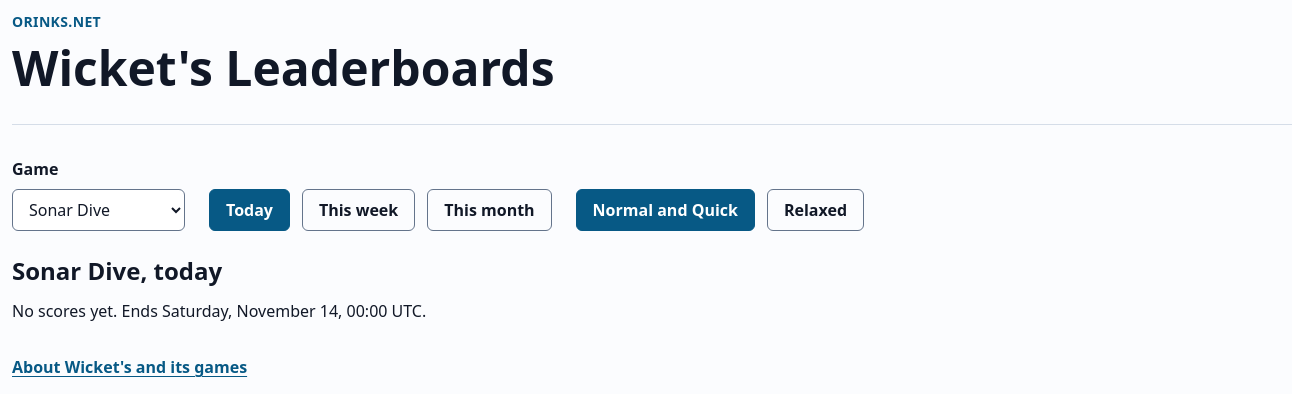
Test: on the live site › a board the service cannot answer says so
Click the button "Relaxed" at (816, 210), box [767,189,864,231]
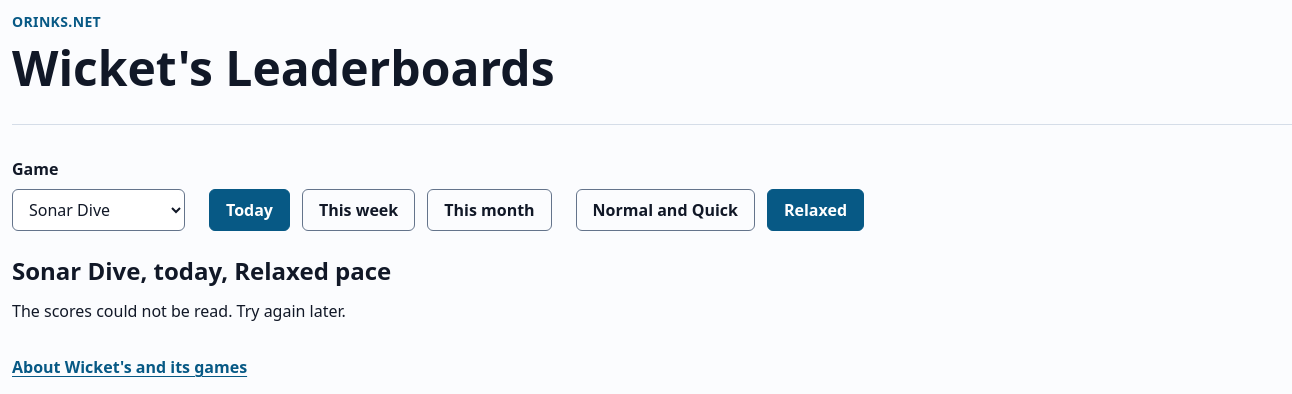
Result: the text "The scores could not be read. Try again later." is shown at [12,300,346,322]
